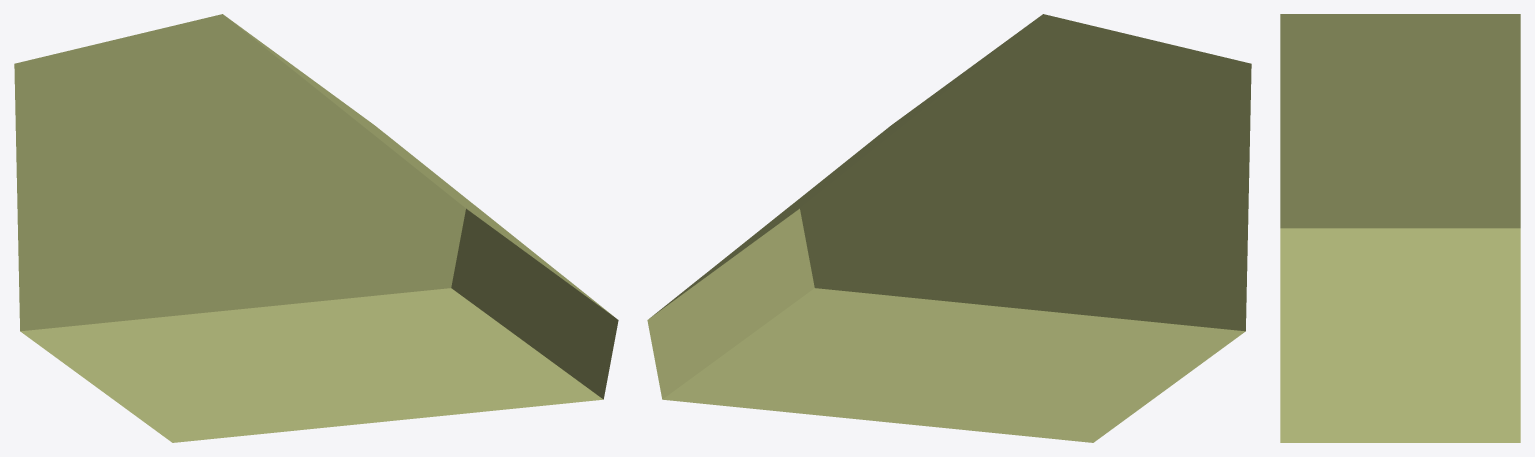
3 views of the same model, side by side, from view 1: azimuth 30°, elevation 25°; view 2: azimuth 150°, elevation 25°; view 3: azimuth 270°, elevation 25° (orthographic). The views are drawn at different scales.
Visible parts, largest first — view 1: 0_0_3_2_0_2_1_1_2_2; view 2: 0_0_3_2_0_2_1_1_2_2; view 3: 0_0_3_2_0_2_1_1_2_2.
Boxes of the visible parts, x1,y1,x2,y2 form: 0_0_3_2_0_2_1_1_2_2: [14, 14, 618, 442]; 0_0_3_2_0_2_1_1_2_2: [647, 14, 1251, 442]; 0_0_3_2_0_2_1_1_2_2: [1280, 14, 1520, 442].
Bounding box in the file's own units: 15.39 × 10.77 × 9.
